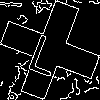L: (25, 25, 68, 77)
